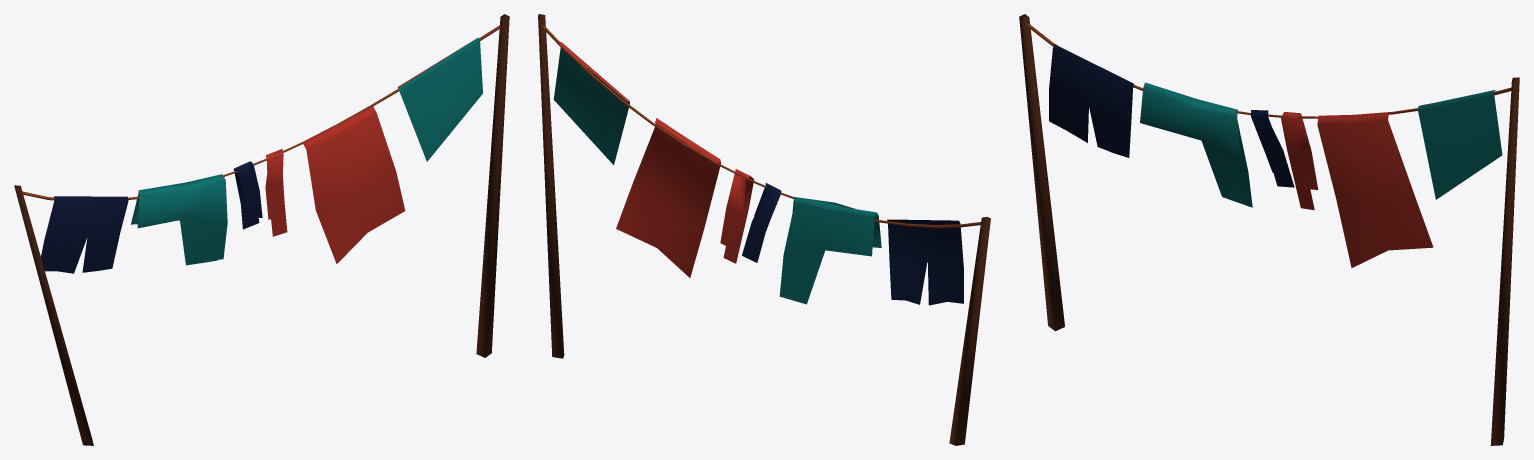
File: varalderoupas.fbx
The picture shows the model from 3 angles, left to right: view 1: azimuth 30°, elevation 25°; view 2: azimuth 150°, elevation 25°; view 3: azimuth 330°, elevation 25°; orthographic projection. The views are drawn at different scales.
Visible parts, largest first — view 1: drying_rope, NurbsPath; view 2: drying_rope, NurbsPath; view 3: drying_rope, NurbsPath.
Part boxes in pixels (<box>): drying_rope: <box>14,14,509,445</box>; NurbsPath: <box>22,25,500,200</box>; drying_rope: <box>538,14,990,445</box>; NurbsPath: <box>541,25,981,227</box>; drying_rope: <box>1019,14,1519,445</box>; NurbsPath: <box>1027,24,1511,118</box>.
Size of the model in its own units: 359 by 244 by 38.86.
